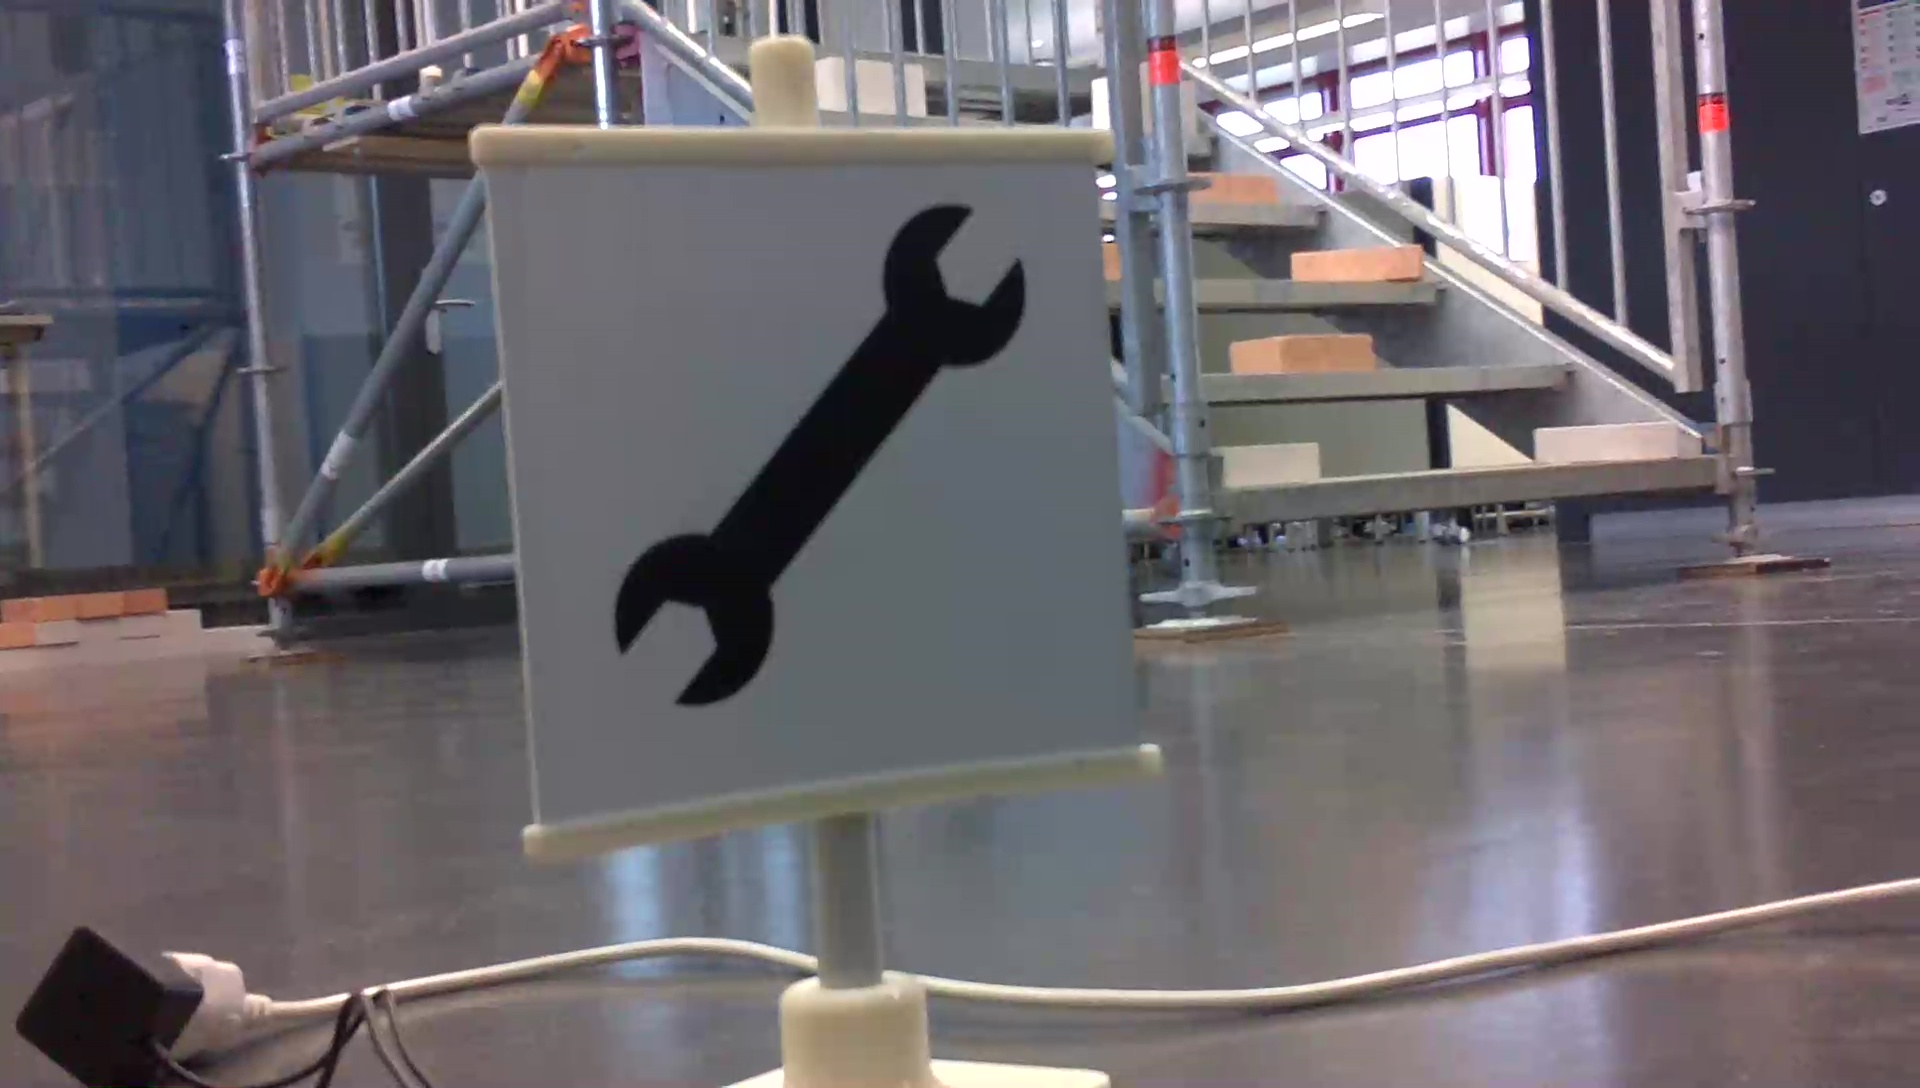brick: (1535, 422, 1677, 460), (1230, 338, 1370, 376), (1290, 245, 1420, 280), (1217, 443, 1317, 483), (1189, 175, 1279, 206), (1180, 78, 1195, 136)
edge: (1237, 458, 1712, 525), (1207, 361, 1580, 402), (1195, 276, 1449, 301), (1191, 204, 1335, 223)
wrench: (597, 195, 1039, 729)
